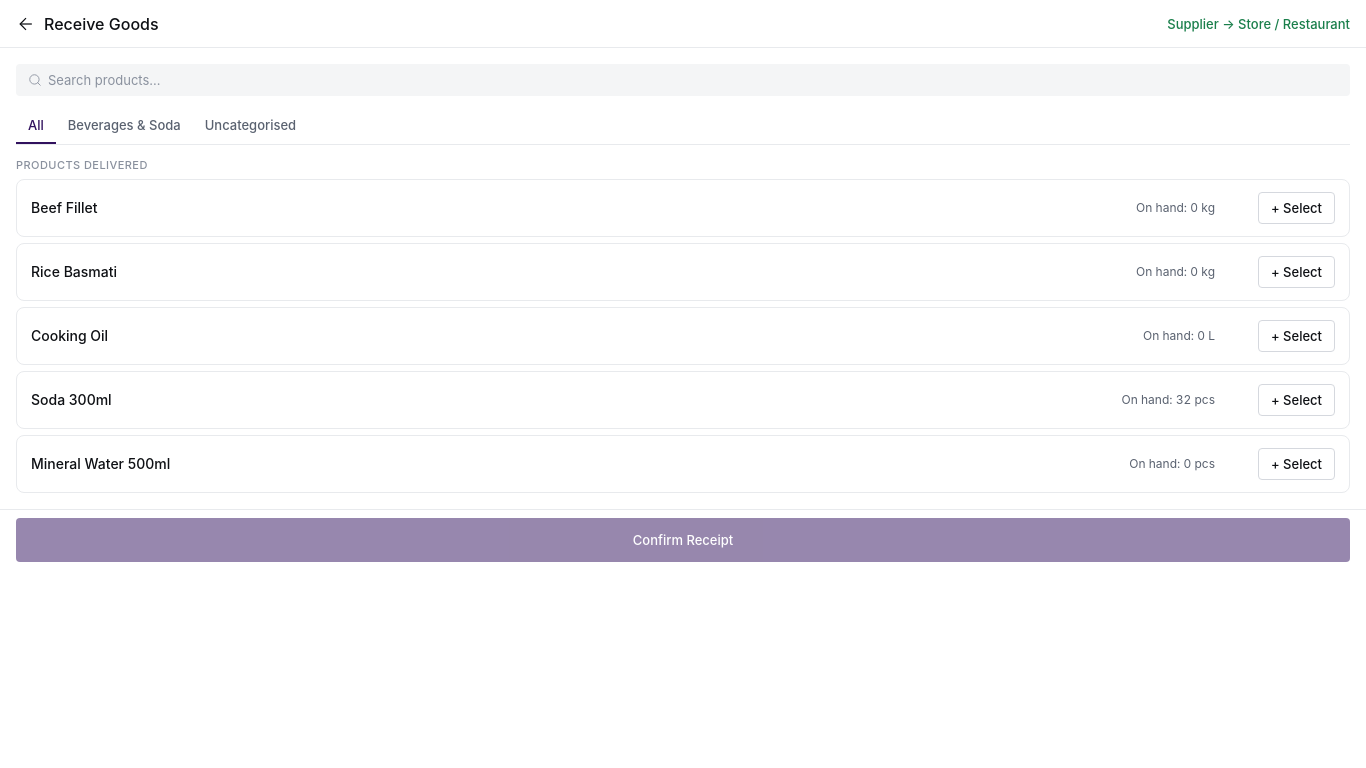
SM — Receive Goods › bug #15: a selected goods row's resulting balance is off the Restaurant on-hand
This screenshot has width=1366, height=768.
Click the button "+ Select" next to "On hand: 32 pcs". click: (1296, 400)
box: [1258,384,1335,416]
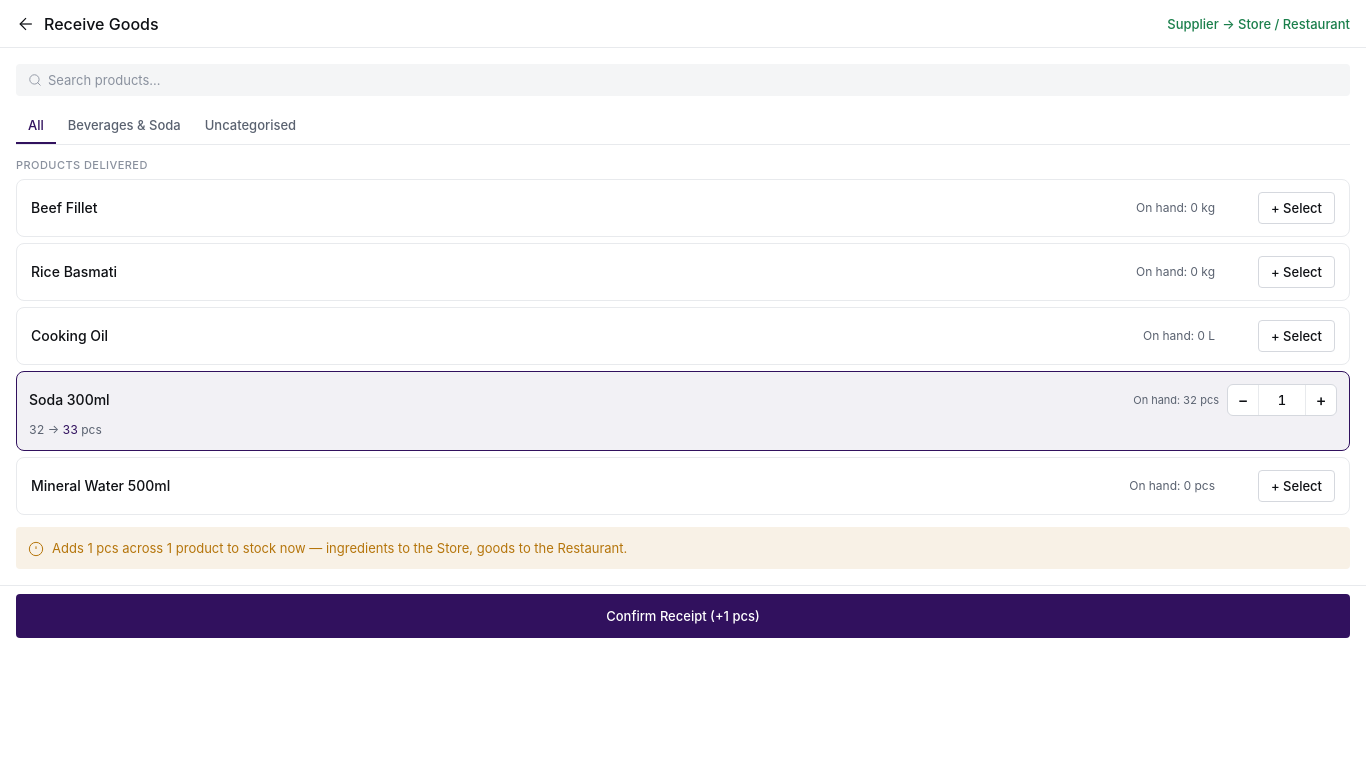
Replace the text in the number field with "12". click: (1282, 400)
box: [1274,392,1290,408]
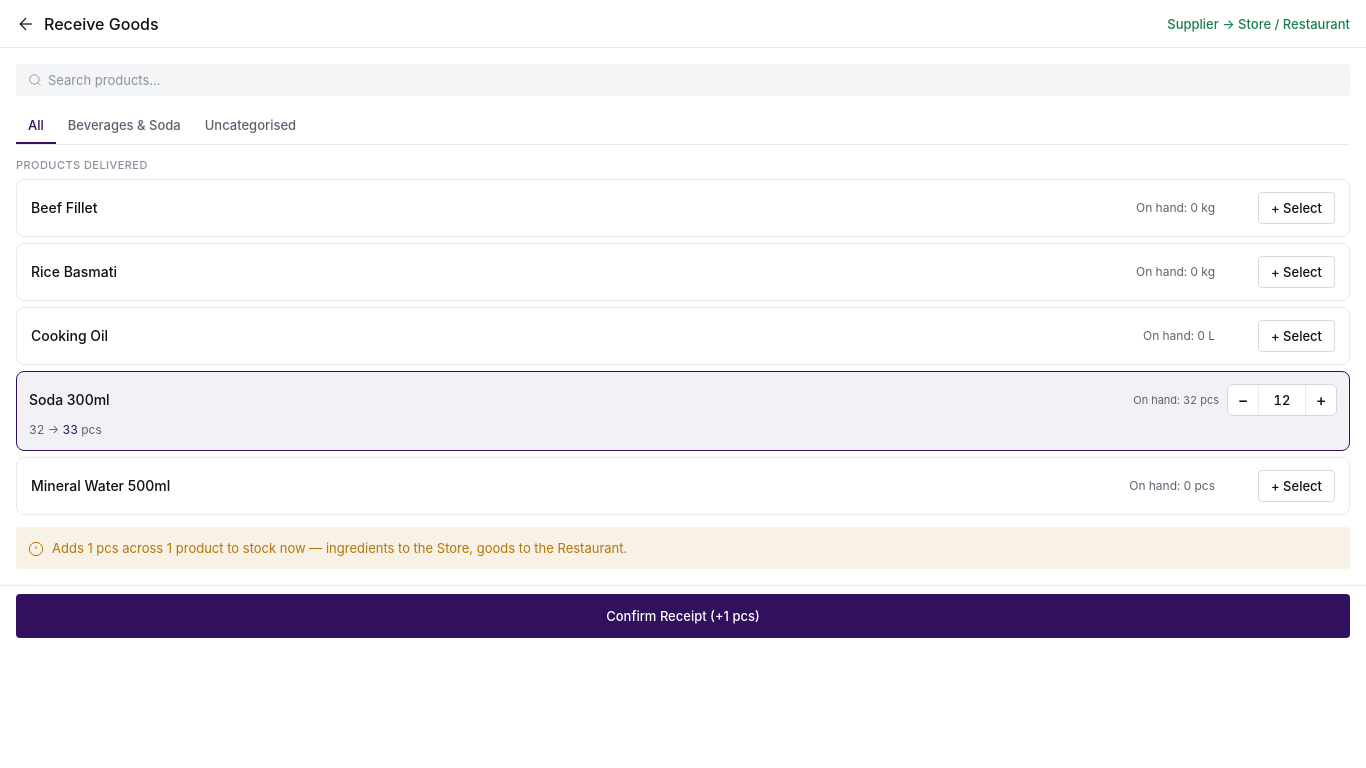
Press Tab
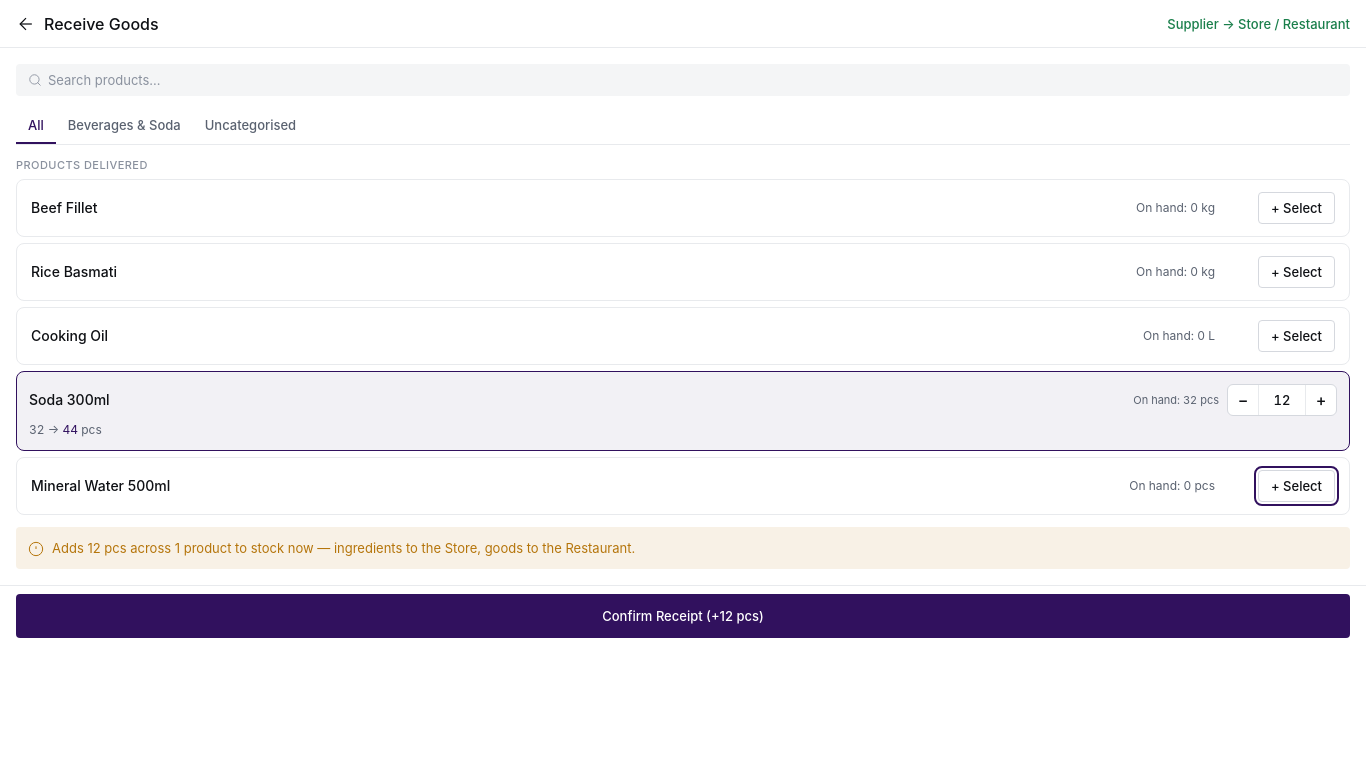
Result: the element named "32 pcs on hand, 44 pcs after this" is shown at [29,422,102,437]
